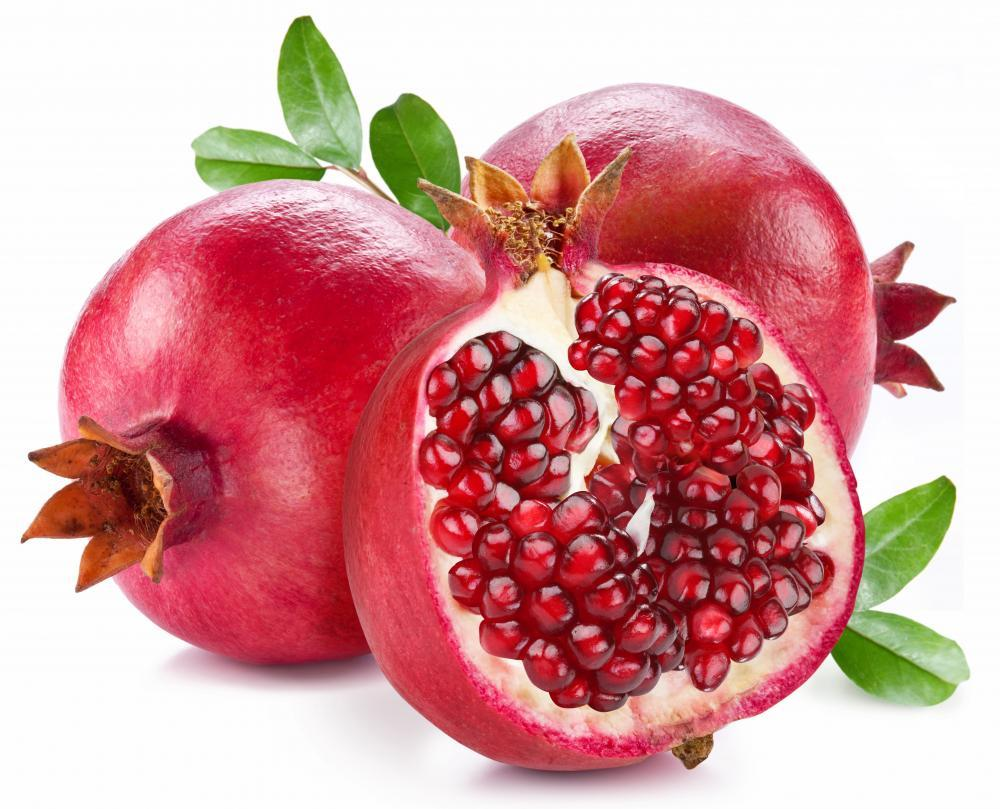pomegranate: (340, 132, 867, 773), (20, 175, 486, 666)
